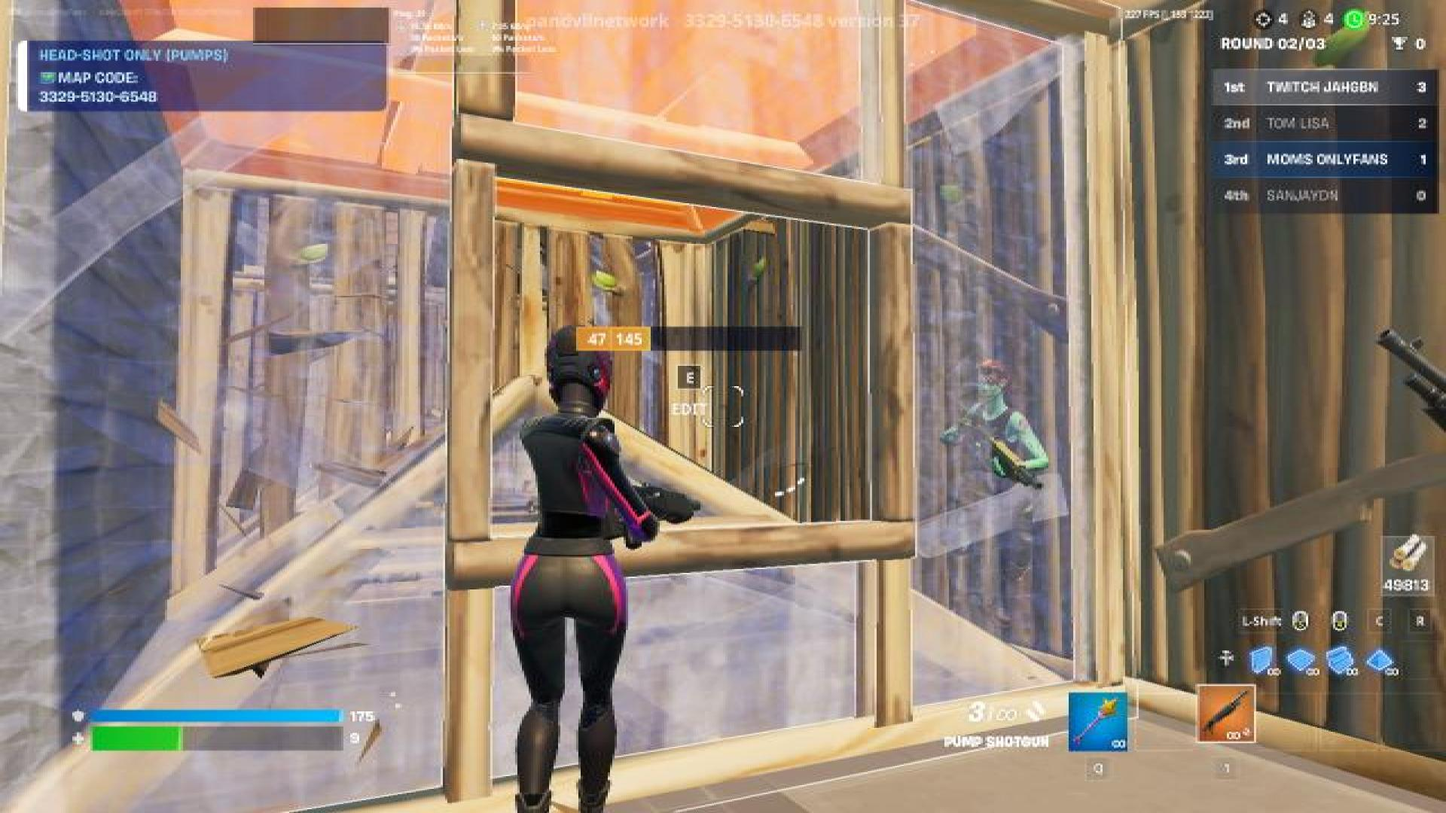player: (937, 353, 1059, 635)
